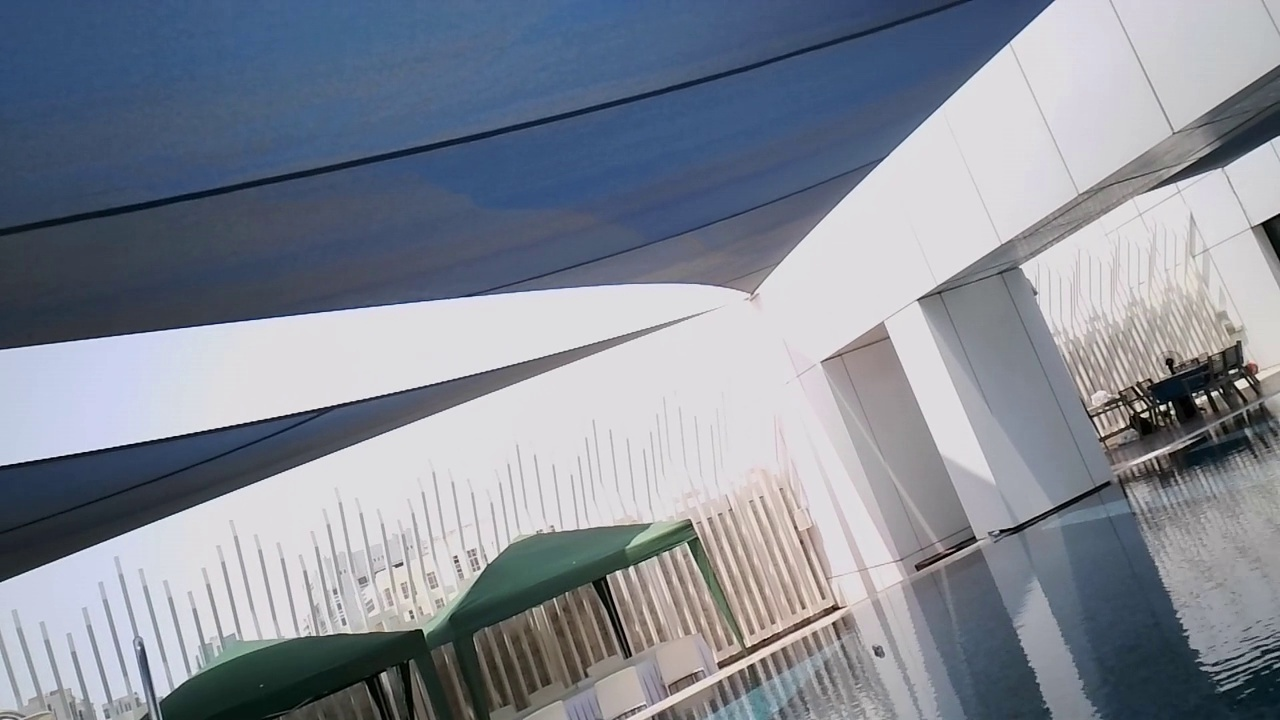debris: (868, 642, 888, 660)
